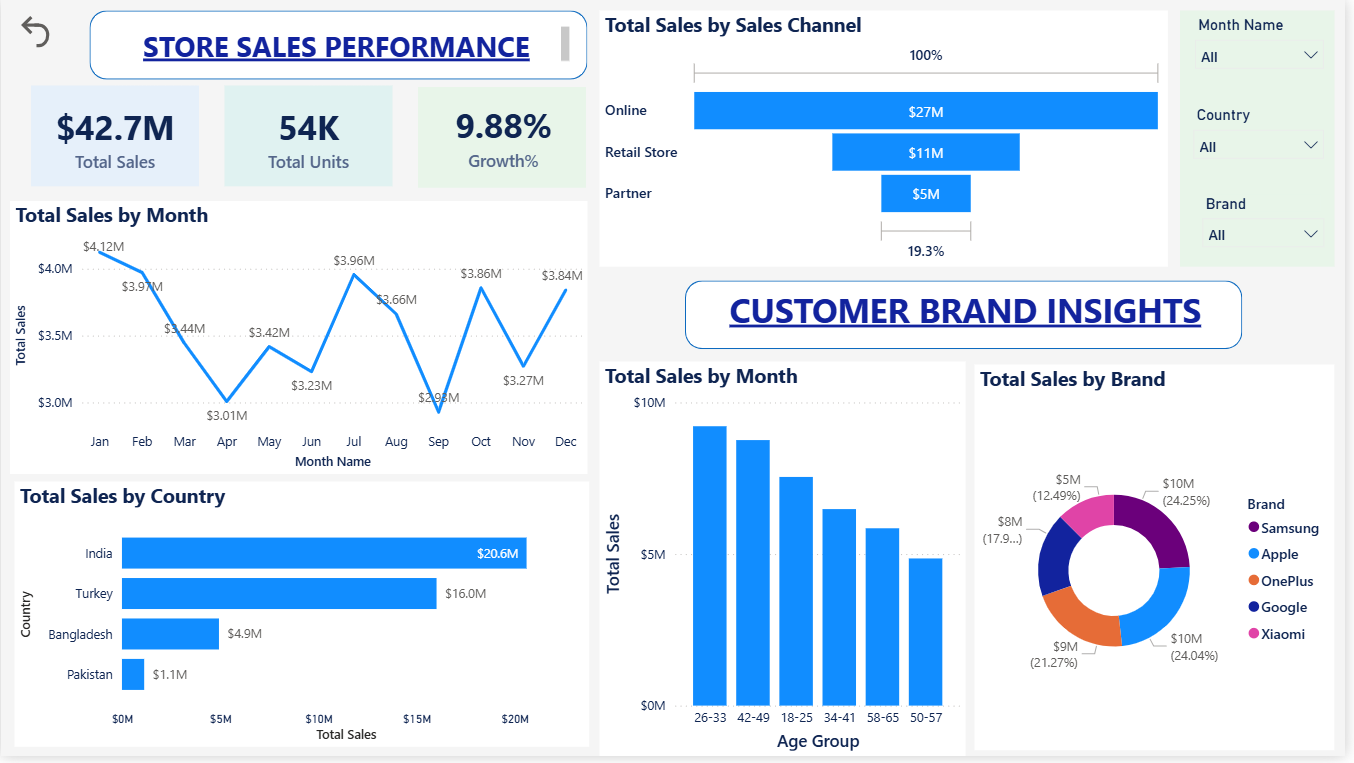

This screenshot's page, from the dashboard's own definition file:
{"tool":"powerbi","page":{"name":"Report Summary","canvas":[1280,720],"ordinal":1},"visuals":[{"type":"group","id":"g1","title":"Header","box":[84.3,10,474.3,65.7],"z":0},{"type":"shape","box":[84.3,10,474.3,65.7],"z":0,"group":"g1"},{"type":"shape","box":[1122.9,10,147.1,244.3],"z":0,"group":"g3"},{"type":"shape","box":[651.7,266.7,530.8,65.4],"z":0,"group":"g2"},{"type":"slicer","fields":{"Values":["Calendar.Month Name"]},"box":[1127.2,10,142.9,66.8],"z":1000,"group":"g3"},{"type":"shape","box":[28.2,82.1,160.3,96.2],"z":1000},{"type":"textbox","box":[100.4,20.3,446.1,44],"z":1001,"group":"g1"},{"type":"textbox","box":[667.3,266.7,502.5,65.4],"z":1001,"group":"g2"},{"type":"shape","box":[212.8,82.1,160,96.2],"z":2000},{"type":"slicer","fields":{"Values":["Dim_Locations.Country"]},"box":[1125.8,96.3,144.3,66.8],"z":2000,"group":"g3"},{"type":"shape","box":[397.4,83.3,160,96.2],"z":3000},{"type":"slicer","fields":{"Values":["Dim_Products.Brand"]},"box":[1134.3,179.4,135.7,74.9],"z":3000,"group":"g3"},{"type":"cardVisual","fields":{"Data":["Table measures.total sales"]},"box":[28.2,83.3,160.3,96.2],"z":4000},{"type":"cardVisual","fields":{"Data":["Table measures.total units"]},"box":[212.8,83.3,160.3,96.2],"z":5000},{"type":"cardVisual","fields":{"Data":["Table measures.M-O-M GROWHTH%"]},"box":[398.7,82.1,160.3,96.2],"z":6000},{"type":"lineChart","title":"Total Sales by Month","fields":{"Category":["Calendar.Date Hierarchy.Month Name"],"Y":["Table measures.total sales"]},"box":[8.6,191.4,550,260],"z":7000},{"type":"clusteredBarChart","title":"Total Sales by Country","fields":{"Category":["Dim_Locations.Country"],"Y":["Table measures.total sales"]},"box":[12.9,458.6,547.1,252.9],"z":8000},{"type":"funnel","title":"Total Sales by Sales Channel","fields":{"Category":["Fact_Sales.Sales_Channel"],"Y":["Table measures.total sales"]},"box":[570,10,541.4,244.3],"z":9000},{"type":"group","id":"g2","title":"Header","box":[651.7,266.7,530,65],"z":10000},{"type":"columnChart","title":"Total Sales by Month","fields":{"Category":["Fact_Sales.Customer_Age_Group"],"Y":["Table measures.total sales"]},"box":[570,344.3,348.6,375.7],"z":11000},{"type":"donutChart","title":"Total Sales by Brand","fields":{"Category":["Dim_Products.Brand"],"Y":["Table measures.total sales"]},"box":[927.1,347.1,342.9,367.1],"z":12000},{"type":"group","id":"g3","title":"Group 1","box":[1122.9,10,147.1,244.3],"z":13001},{"type":"actionButton","box":[12.9,10,55.7,40],"z":13002}]}

Visuals, with their boxes in screenshot pixels (x1, y1, x2, y2), scaled from the page's 1280x720 canvas onto the 1354x763 screenshot:
"Header" group: [89, 11, 591, 80]
shape: [89, 11, 591, 80]
shape: [1188, 11, 1343, 269]
shape: [689, 283, 1251, 352]
slicer - Calendar.Month Name: [1192, 11, 1344, 81]
shape: [30, 87, 199, 189]
textbox: [106, 22, 578, 68]
textbox: [706, 283, 1237, 352]
shape: [225, 87, 394, 189]
slicer - Dim_Locations.Country: [1191, 102, 1344, 173]
shape: [420, 88, 590, 190]
slicer - Dim_Products.Brand: [1200, 190, 1343, 269]
cardVisual - Table measures.total sales: [30, 88, 199, 190]
cardVisual - Table measures.total units: [225, 88, 395, 190]
cardVisual - Table measures.M-O-M GROWHTH%: [422, 87, 591, 189]
"Total Sales by Month" lineChart: [9, 203, 591, 478]
"Total Sales by Country" clusteredBarChart: [14, 486, 592, 754]
"Total Sales by Sales Channel" funnel: [603, 11, 1176, 269]
"Header" group: [689, 283, 1250, 352]
"Total Sales by Month" columnChart: [603, 365, 972, 762]
"Total Sales by Brand" donutChart: [981, 368, 1343, 757]
"Group 1" group: [1188, 11, 1343, 269]
actionButton: [14, 11, 73, 53]
